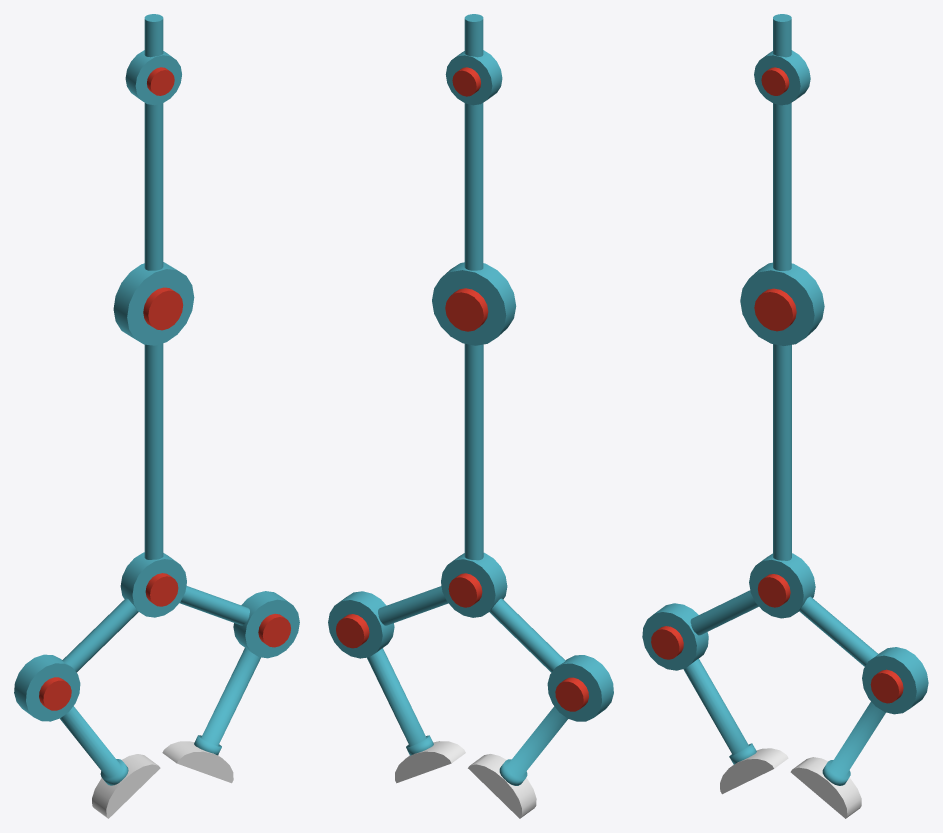
The model's file is 天花板物2.FBX.
3 renders of one model, left to right at view 1: azimuth 30°, elevation 25°; view 2: azimuth 150°, elevation 25°; view 3: azimuth 330°, elevation 25°, orthographic.
Visible parts, largest first — view 1: Cylinder003, Cylinder007, Cylinder006, Cylinder013, Cylinder002, Cylinder019, Cylinder016, Cylinder010, Cylinder011, Cylinder009, Cylinder014, Cylinder015 (+6 smaller); view 2: Cylinder003, Cylinder007, Cylinder006, Cylinder013, Cylinder002, Cylinder019, Cylinder016, Cylinder010, Cylinder011, Cylinder009, Cylinder014, Cylinder015 (+6 smaller); view 3: Cylinder003, Cylinder006, Cylinder007, Cylinder019, Cylinder002, Cylinder013, Cylinder011, Cylinder015, Cylinder016, Cylinder009, Cylinder018, Cylinder010 (+6 smaller).
Boxes of the visible parts, bbox=[...] form: Cylinder003: bbox=[144, 343, 163, 559]; Cylinder007: bbox=[144, 14, 163, 270]; Cylinder006: bbox=[113, 262, 194, 345]; Cylinder013: bbox=[14, 654, 80, 721]; Cylinder002: bbox=[120, 552, 186, 617]; Cylinder019: bbox=[233, 591, 299, 658]; Cylinder016: bbox=[194, 648, 260, 755]; Cylinder010: bbox=[92, 754, 160, 818]; Cylinder011: bbox=[60, 706, 128, 785]; Cylinder009: bbox=[125, 50, 181, 105]; Cylinder014: bbox=[62, 598, 138, 672]; Cylinder015: bbox=[162, 741, 233, 783]; Cylinder003: bbox=[464, 344, 483, 560]; Cylinder007: bbox=[464, 14, 483, 270]; Cylinder006: bbox=[432, 262, 516, 345]; Cylinder013: bbox=[547, 655, 613, 721]; Cylinder002: bbox=[441, 552, 507, 617]; Cylinder019: bbox=[328, 591, 394, 658]; Cylinder016: bbox=[367, 648, 433, 755]; Cylinder010: bbox=[468, 754, 536, 818]; Cylinder011: bbox=[499, 706, 567, 785]; Cylinder009: bbox=[445, 50, 502, 105]; Cylinder014: bbox=[489, 598, 565, 672]; Cylinder015: bbox=[395, 741, 465, 783]; Cylinder003: bbox=[773, 344, 791, 560]; Cylinder006: bbox=[740, 262, 824, 345]; Cylinder007: bbox=[773, 14, 791, 270]; Cylinder019: bbox=[862, 647, 928, 714]; Cylinder002: bbox=[749, 553, 815, 618]; Cylinder013: bbox=[642, 603, 708, 670]; Cylinder011: bbox=[683, 658, 756, 764]; Cylinder015: bbox=[790, 757, 861, 818]; Cylinder016: bbox=[822, 701, 885, 785]; Cylinder009: bbox=[754, 50, 810, 105]; Cylinder018: bbox=[799, 596, 878, 666]; Cylinder010: bbox=[720, 748, 788, 794].
Bounding box in the file's own units: 656 × 1792 × 96.87.
